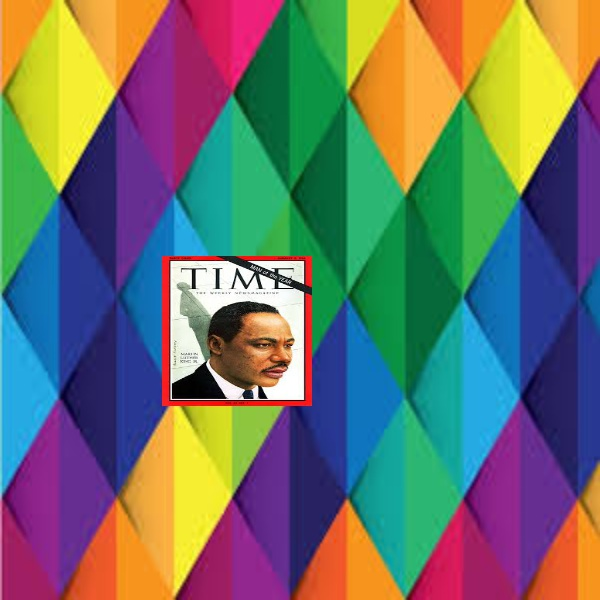time_cover: (154, 246, 316, 411)
